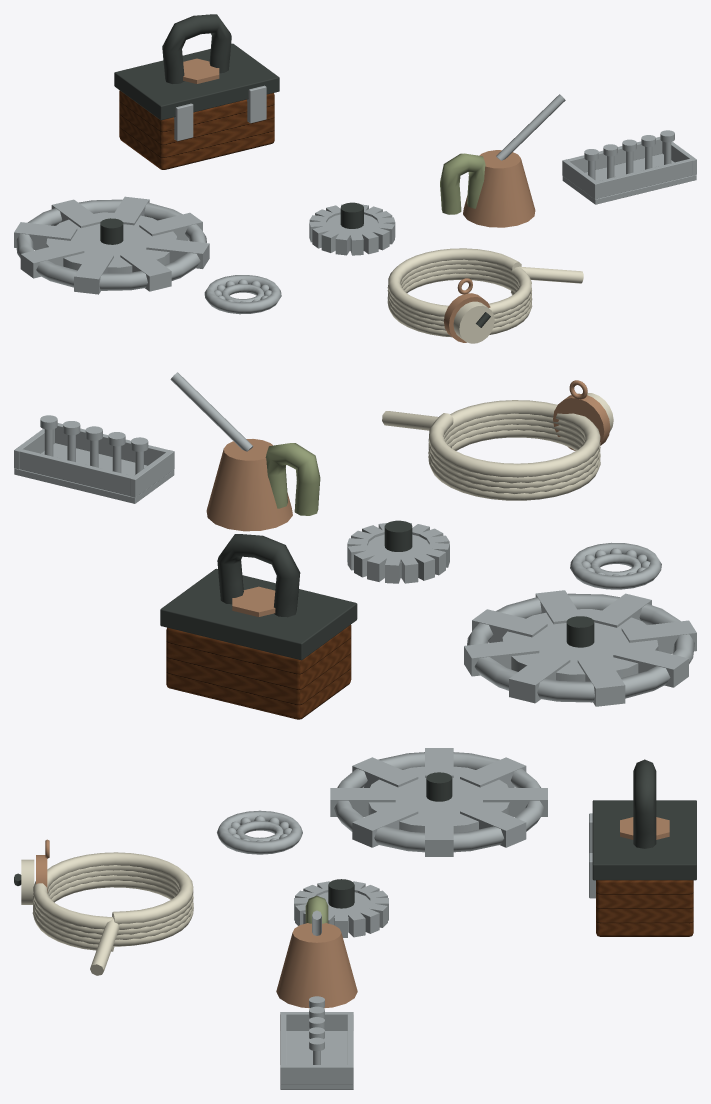
Rendered from scavengers-loot-library-mechanical-barter-cache-70bbc67a__2687.glb.
3 renders of one model, top to bottom at view 1: azimuth 30°, elevation 25°; view 2: azimuth 150°, elevation 25°; view 3: azimuth 270°, elevation 25°, orthographic. The views are drawn at different scales.
Parts seen in each view (by area): view 1: 002-flywheel/0, 007-rope-coil/0, 000-carved-box/0, 006-bolt-tray/0, 000-carved-box/lid/dark, 005-oil-can/0, 004-spur-gear/0, 000-carved-box/3, 003-ball-bearing/0, 005-oil-can/2, 000-carved-box/2, 001-pocket-watch/1 (+5 smaller); view 2: 002-flywheel/0, 007-rope-coil/0, 000-carved-box/0, 006-bolt-tray/0, 000-carved-box/lid/dark, 005-oil-can/0, 004-spur-gear/0, 000-carved-box/3, 003-ball-bearing/0, 005-oil-can/2, 001-pocket-watch/0, 005-oil-can/1 (+3 smaller); view 3: 002-flywheel/0, 007-rope-coil/0, 000-carved-box/lid/dark, 006-bolt-tray/0, 000-carved-box/0, 005-oil-can/0, 004-spur-gear/0, 003-ball-bearing/0, 000-carved-box/3, 004-spur-gear/1, 002-flywheel/1, 001-pocket-watch/1 (+1 smaller).
Part boxes in pixels (left/top/right/bottom): 002-flywheel/0: left=14, top=196, right=209, bottom=294; 007-rope-coil/0: left=387, top=248, right=583, bottom=337; 000-carved-box/0: left=119, top=90, right=274, bottom=169; 006-bolt-tray/0: left=562, top=130, right=696, bottom=204; 000-carved-box/lid/dark: left=114, top=43, right=279, bottom=120; 005-oil-can/0: left=463, top=150, right=535, bottom=227; 004-spur-gear/0: left=309, top=204, right=395, bottom=255; 000-carved-box/3: left=162, top=14, right=231, bottom=83; 003-ball-bearing/0: left=204, top=275, right=281, bottom=314; 005-oil-can/2: left=440, top=153, right=485, bottom=214; 000-carved-box/2: left=174, top=85, right=266, bottom=141; 001-pocket-watch/1: left=453, top=301, right=494, bottom=343; 002-flywheel/0: left=464, top=590, right=696, bottom=706; 007-rope-coil/0: left=382, top=400, right=600, bottom=500; 000-carved-box/0: left=166, top=625, right=351, bottom=719; 006-bolt-tray/0: left=14, top=415, right=174, bottom=503; 000-carved-box/lid/dark: left=160, top=568, right=357, bottom=660; 005-oil-can/0: left=206, top=439, right=292, bottom=531; 004-spur-gear/0: left=347, top=523, right=449, bottom=583; 000-carved-box/3: left=217, top=534, right=300, bottom=617; 003-ball-bearing/0: left=570, top=542, right=661, bottom=589; 005-oil-can/2: left=265, top=443, right=320, bottom=515; 001-pocket-watch/0: left=553, top=380, right=610, bottom=450; 005-oil-can/1: left=170, top=372, right=253, bottom=451; 002-flywheel/0: left=330, top=748, right=547, bottom=856; 007-rope-coil/0: left=32, top=852, right=193, bottom=975; 000-carved-box/lid/dark: left=592, top=800, right=696, bottom=880; 006-bolt-tray/0: left=280, top=996, right=353, bottom=1089; 000-carved-box/0: left=596, top=880, right=693, bottom=936; 005-oil-can/0: left=276, top=923, right=357, bottom=1008; 004-spur-gear/0: left=294, top=881, right=388, bottom=937; 003-ball-bearing/0: left=217, top=810, right=302, bottom=854; 000-carved-box/3: left=633, top=759, right=656, bottom=848; 004-spur-gear/1: left=328, top=879, right=354, bottom=908; 002-flywheel/1: left=426, top=772, right=452, bottom=801; 001-pocket-watch/1: left=21, top=859, right=34, bottom=904.
Size of the model in its own units: 0.9441 by 0.1908 by 0.8381.
Materials: 6 (1 with a texture image).
